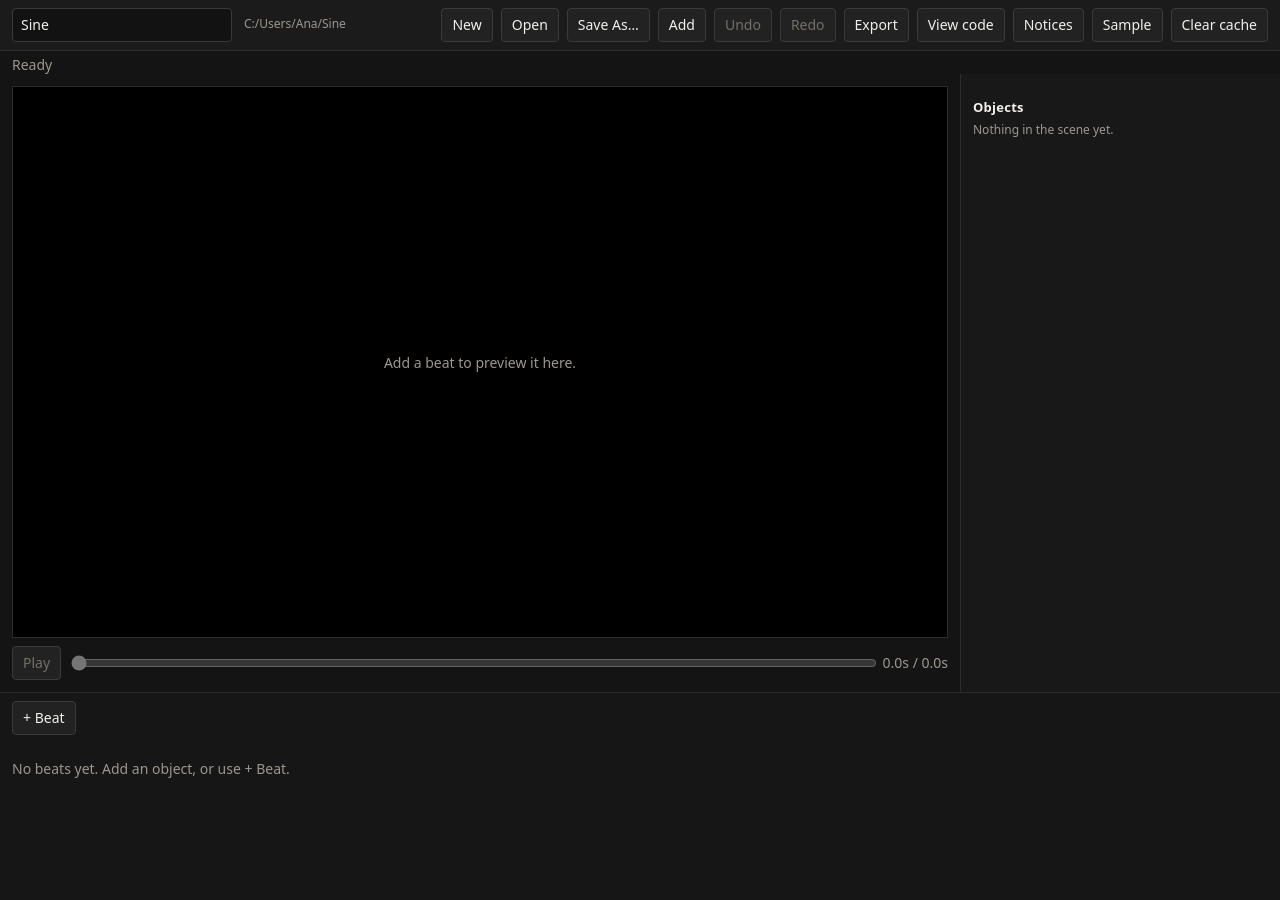
App › makes the app inert behind the project_changed prompt, and Escape cancels it
Expected: the text with test id "status" reads "Ready", [12, 55, 52, 74]
Replace the text in the field with test id "project-name" with "Renamed": (122, 25) [12, 8, 232, 42]
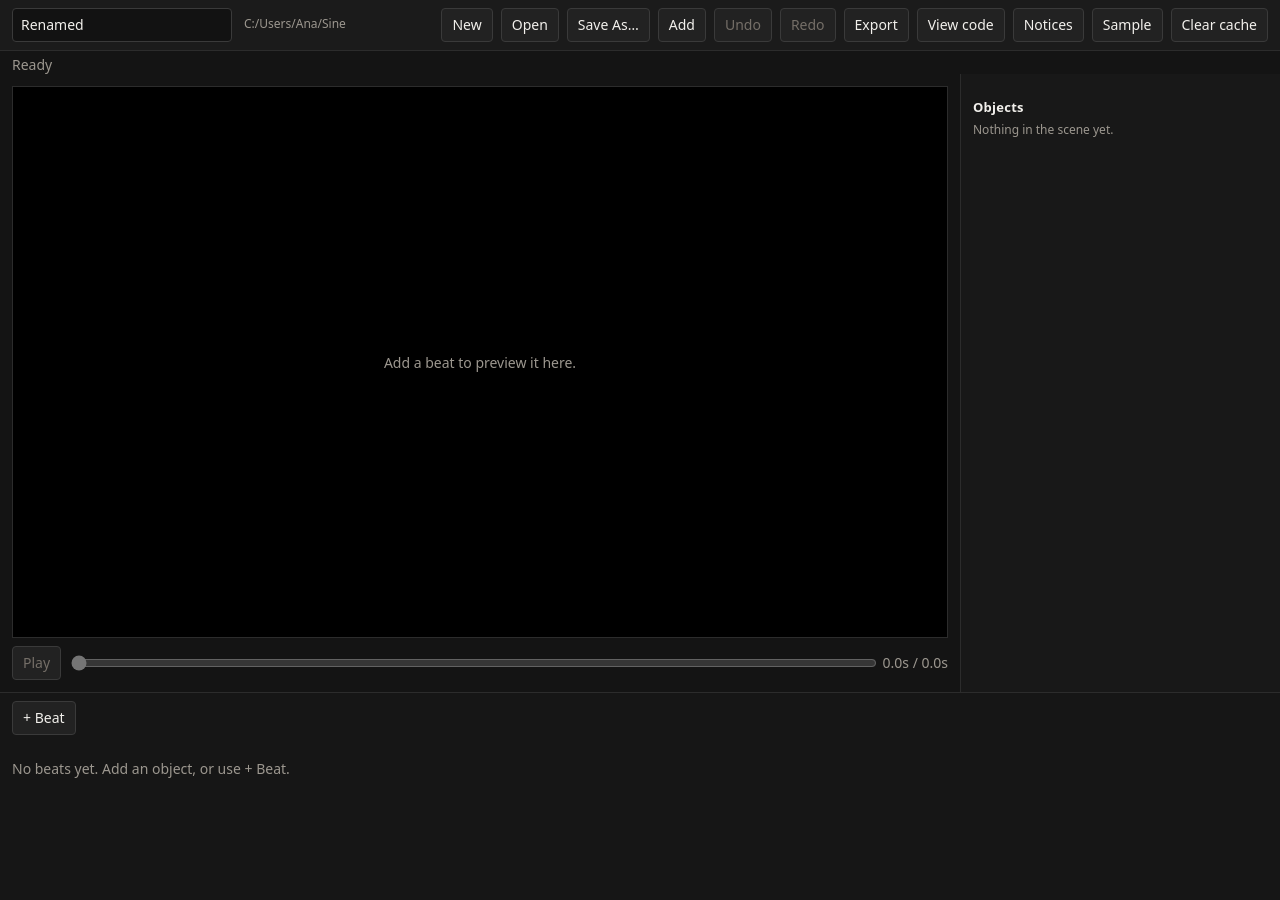
Leave the field with test id "project-name", box [12, 8, 232, 42]
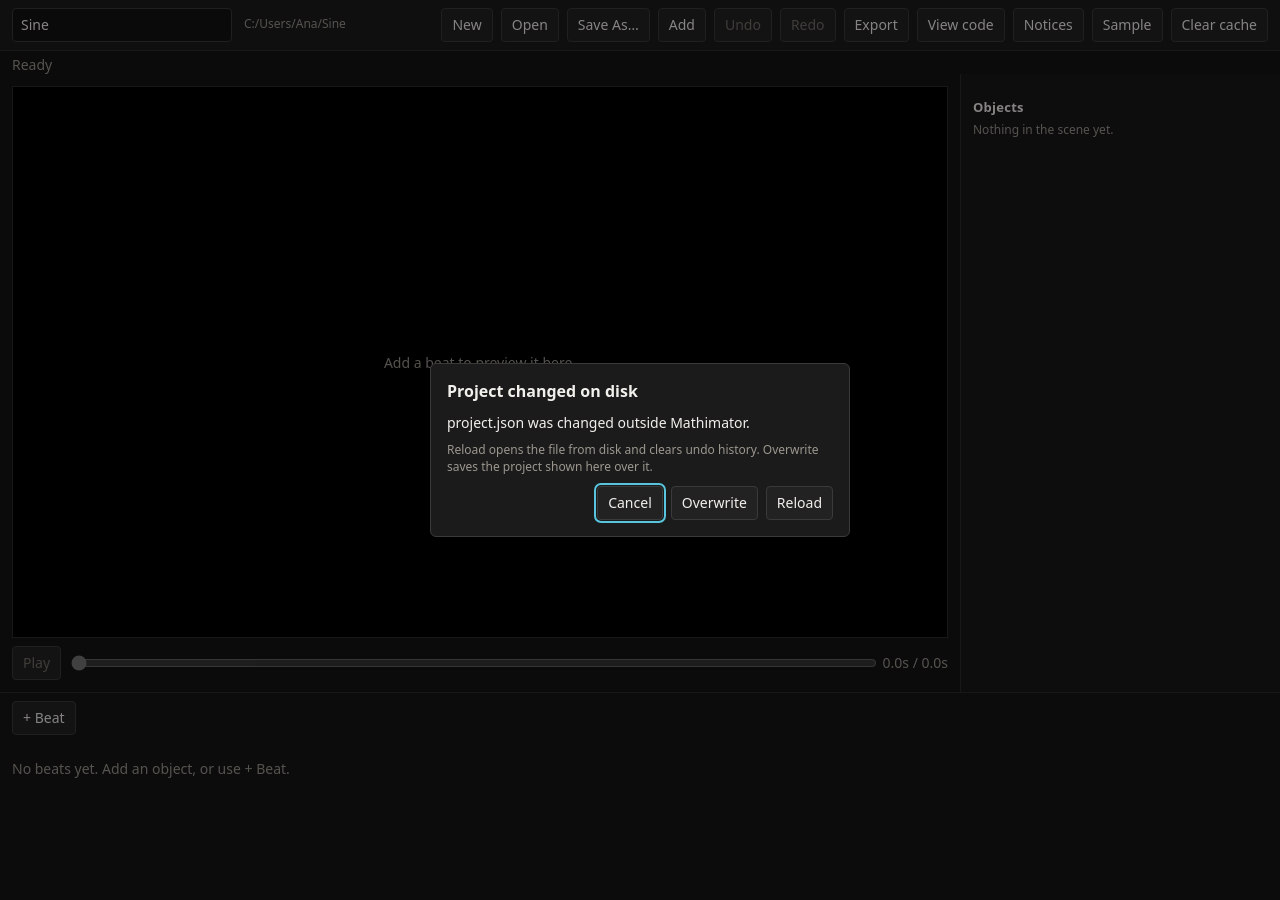
Expected: the dialog is shown, [430, 363, 850, 537]
Press Escape
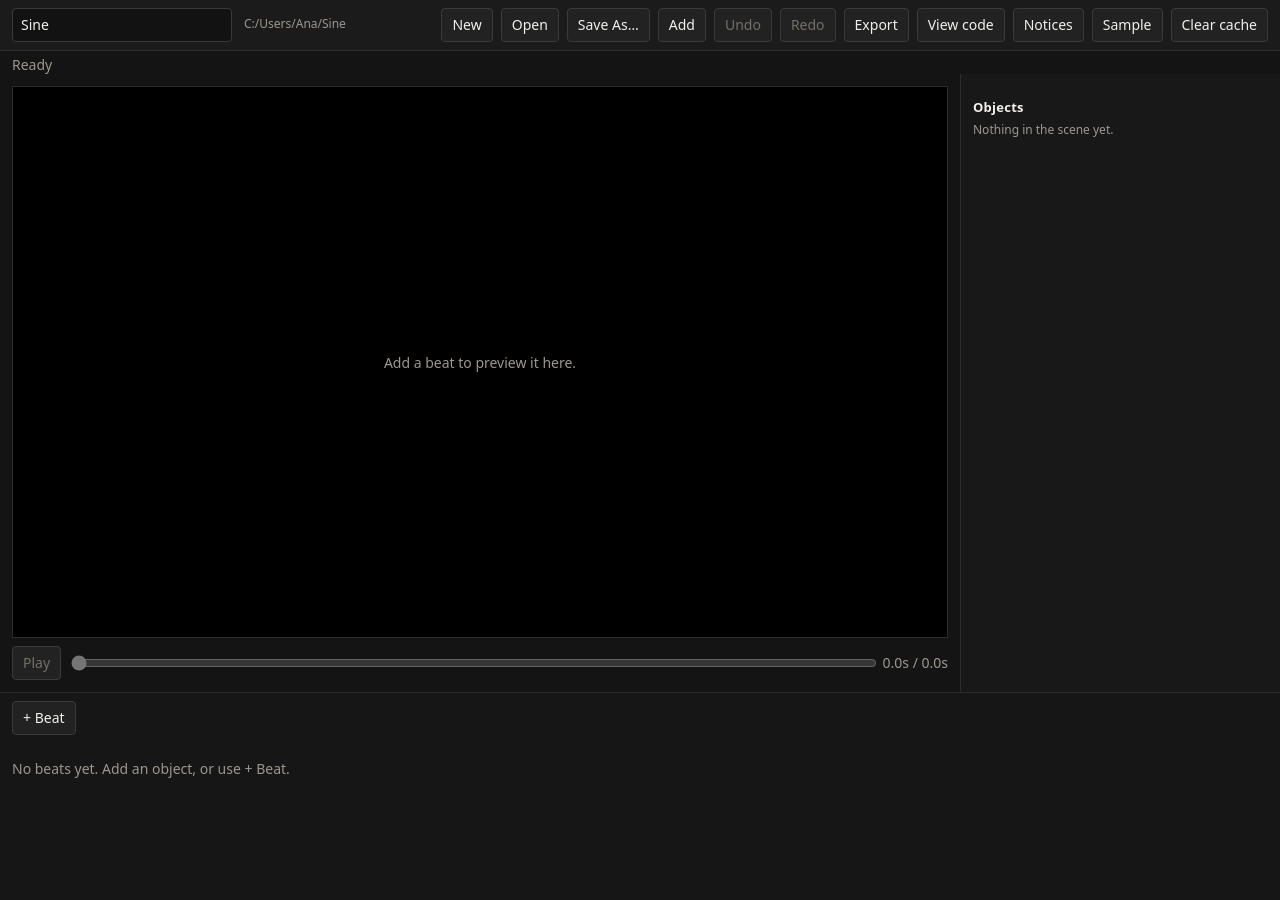
Expected: the dialog is gone
